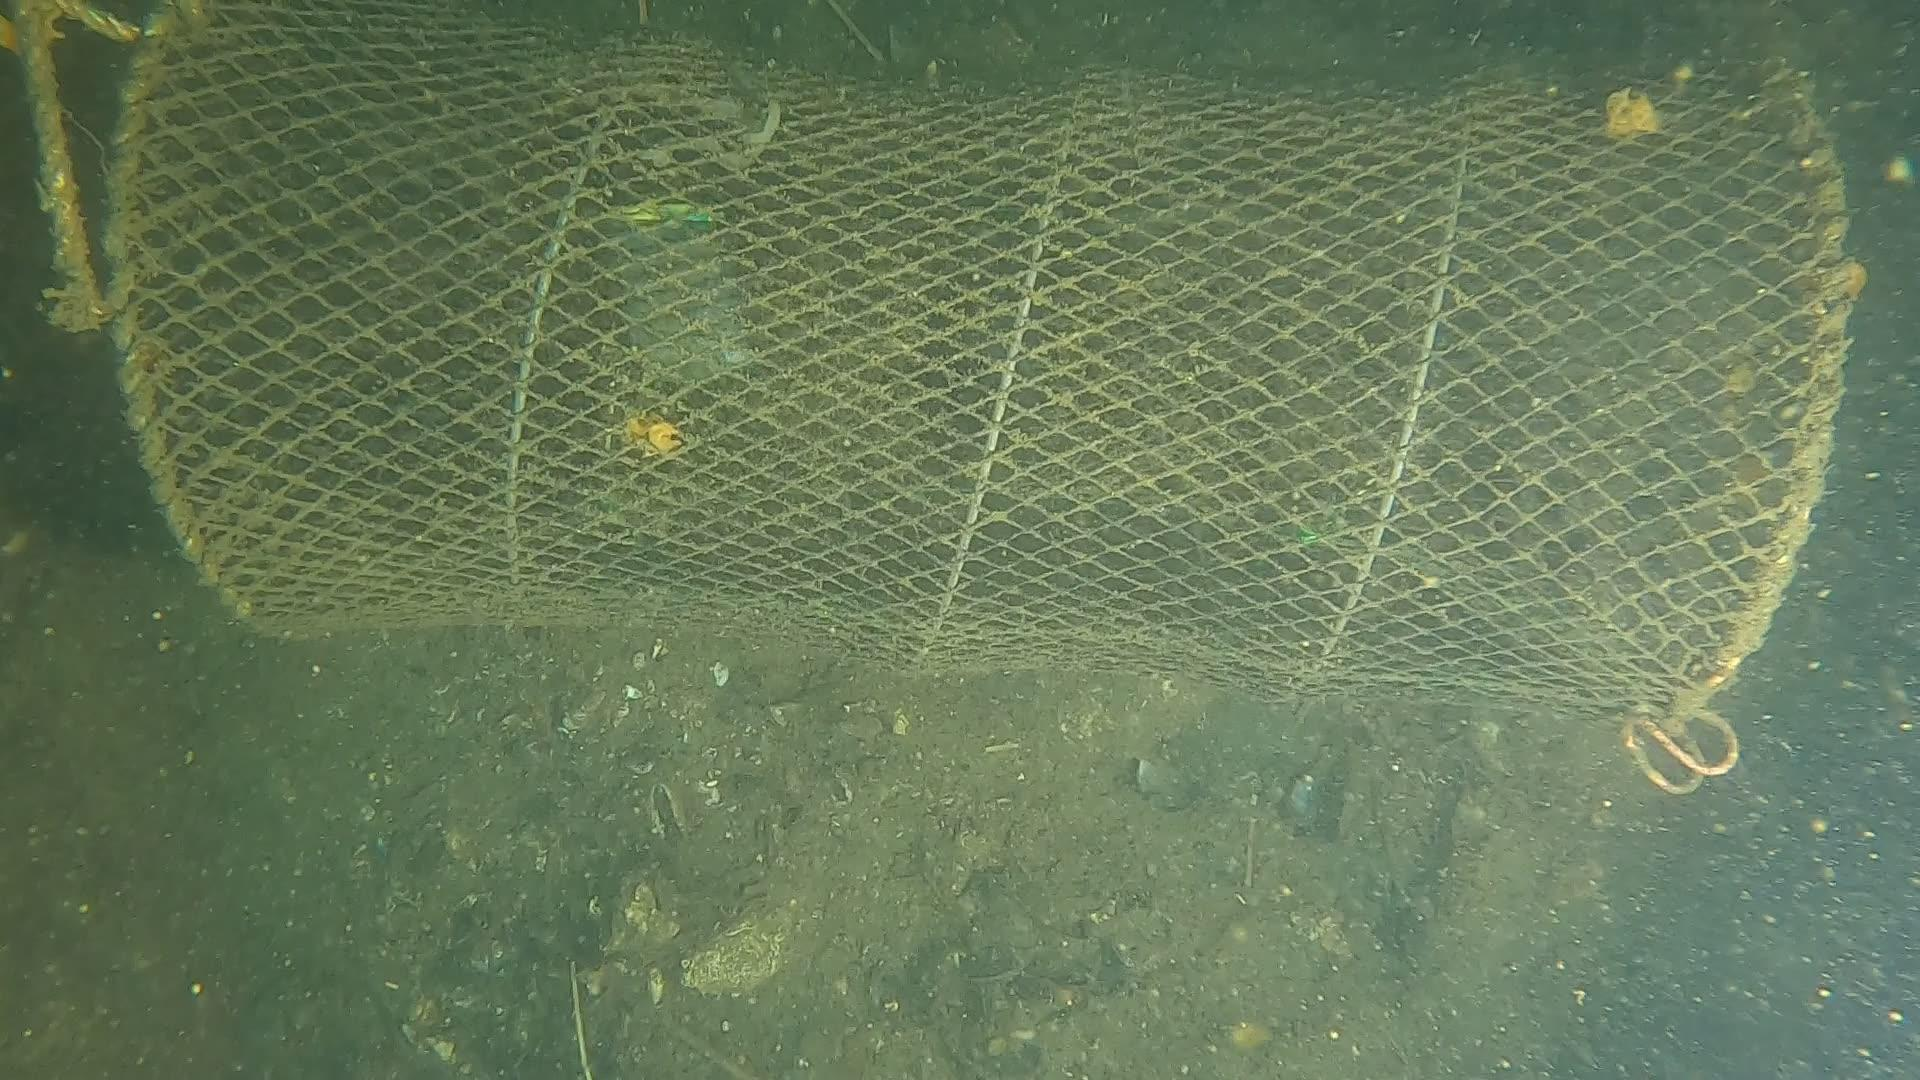spring fish trap: (84, 3, 1847, 733)
